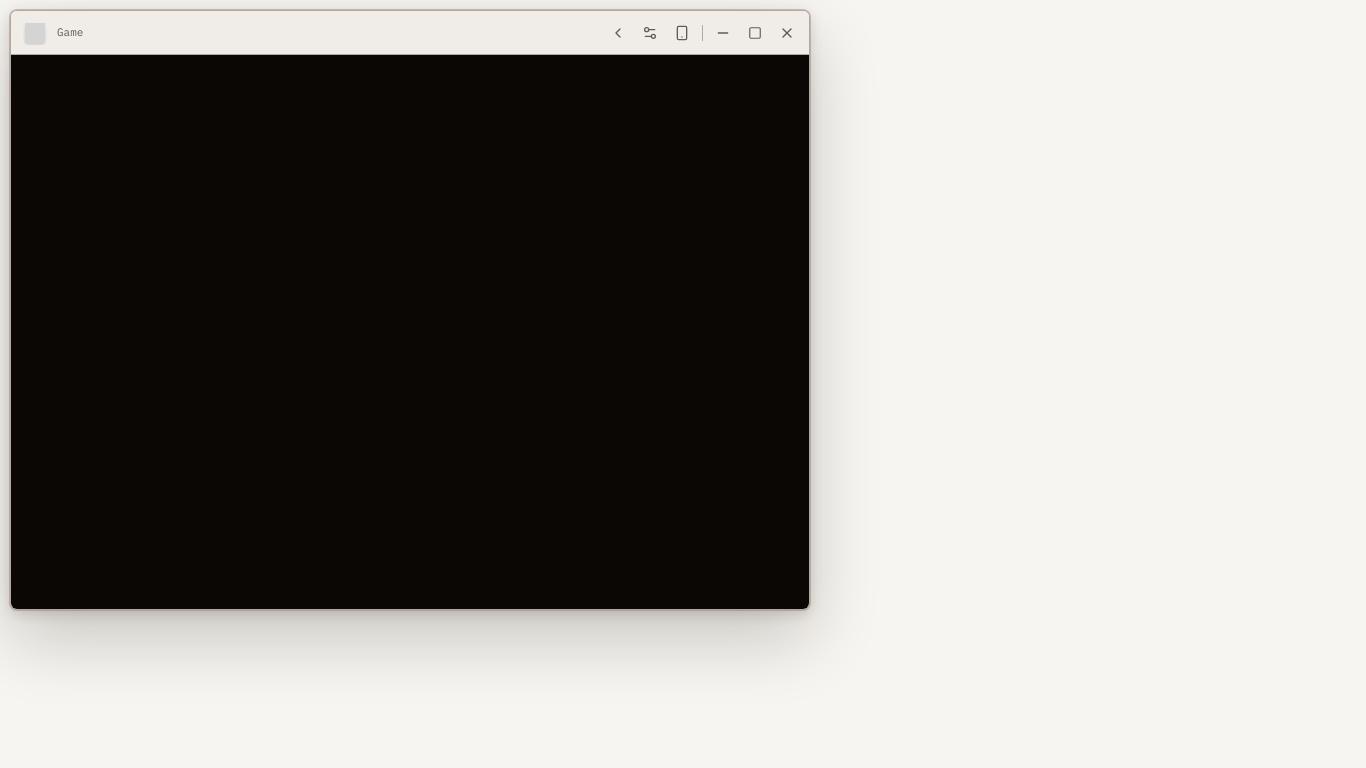
Test: Hub: genel "Gerçek çözünürlük" kapalıyken Dinamik DP karosu › genel ayar kapalı › pencerenin kendi "Açık" seçimi de etkisiz görünür, seçim silinmez
The width and height of the screenshot is (1366, 768).
Click the button named "Pencere Hub ayarları" at (650, 32), box [634,16,666,48]
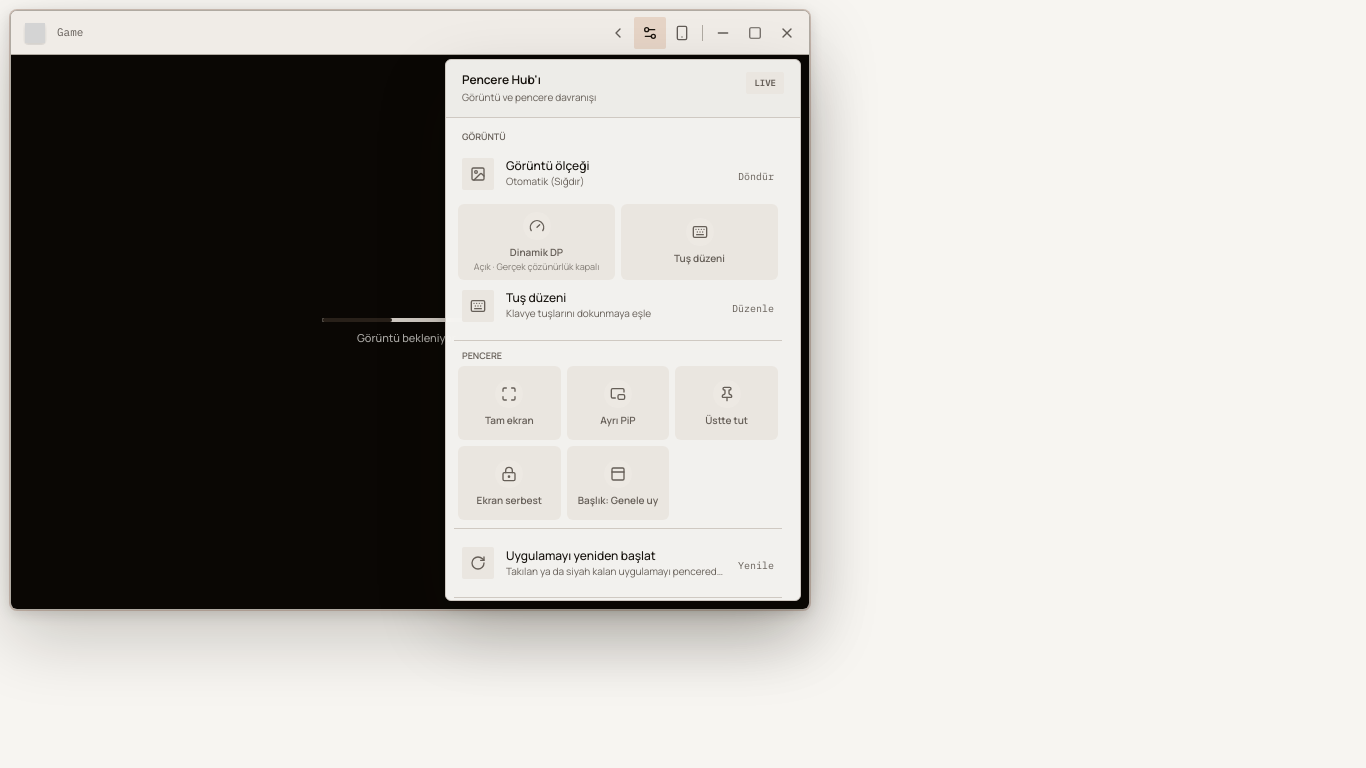
Expected: the button with aria-label "Dinamik DP: kapalı" shows "Gerçek çözünürlük kapalı", [458,204,615,280]
